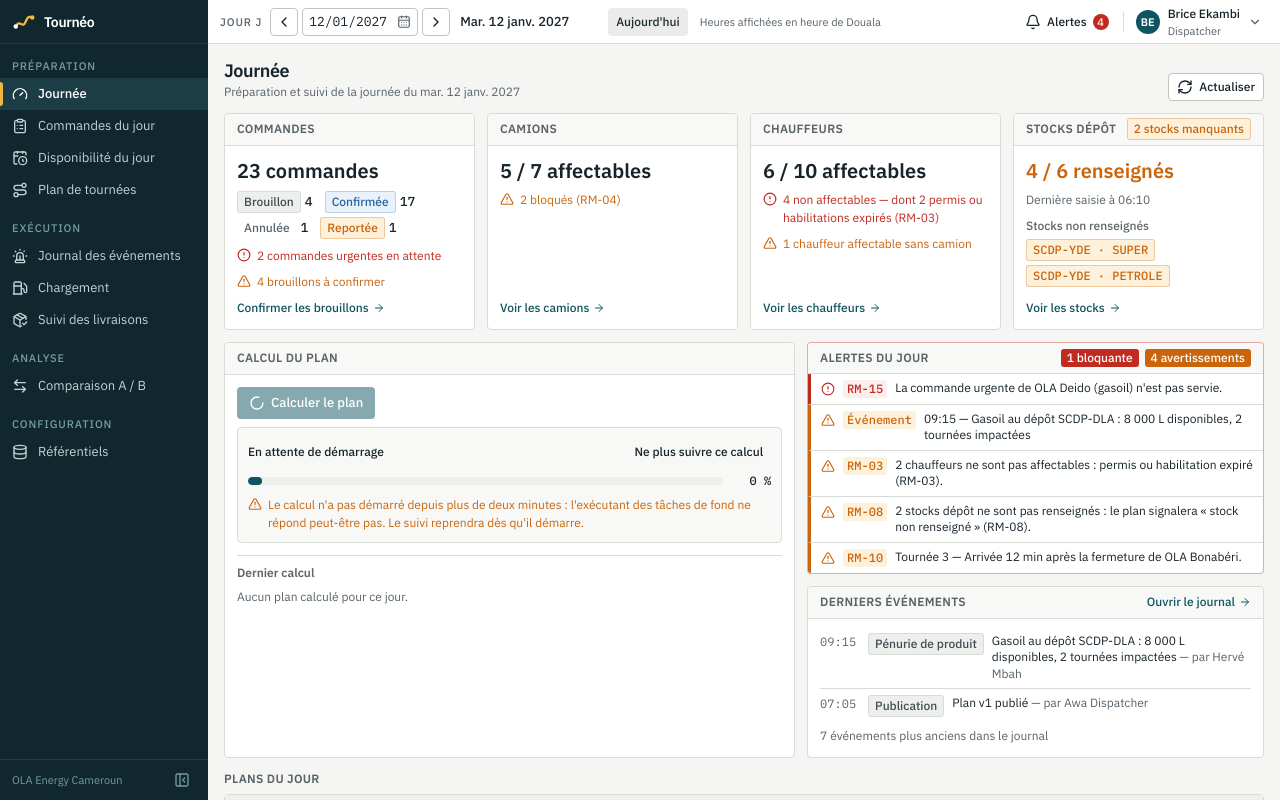
it: Journée — calcul du plan › signale un calcul qui ne démarre pas et permet d'arrêter le suivi
The width and height of the screenshot is (1280, 800).
Check: the text "n'a pas démarré depuis plus de deux minutes" is shown, box top-left (268, 496), bottom-right (751, 530)
Click the button "Ne plus suivre ce calcul" at (699, 452), box top-left (626, 438), bottom-right (771, 466)
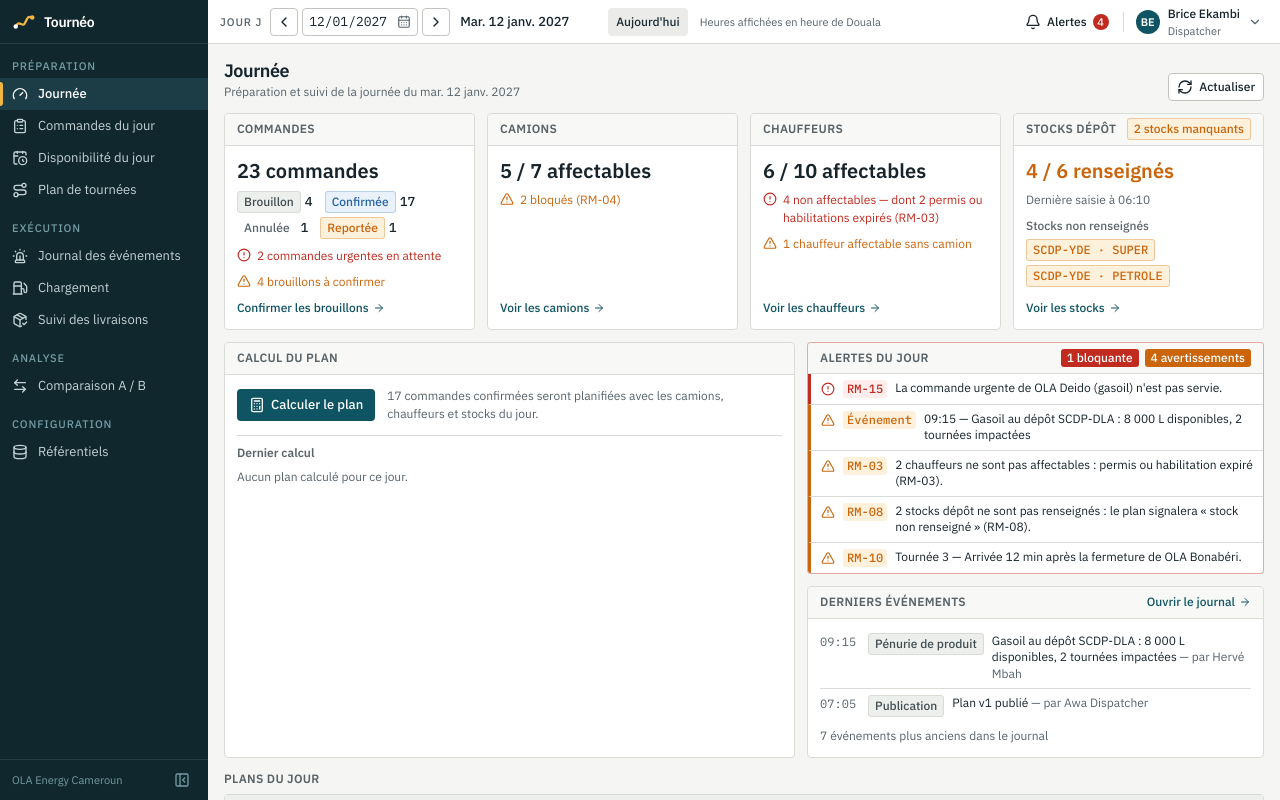
Check: the progress indicator is gone
Check: the button "Calculer le plan" is enabled, box top-left (237, 388), bottom-right (375, 420)
